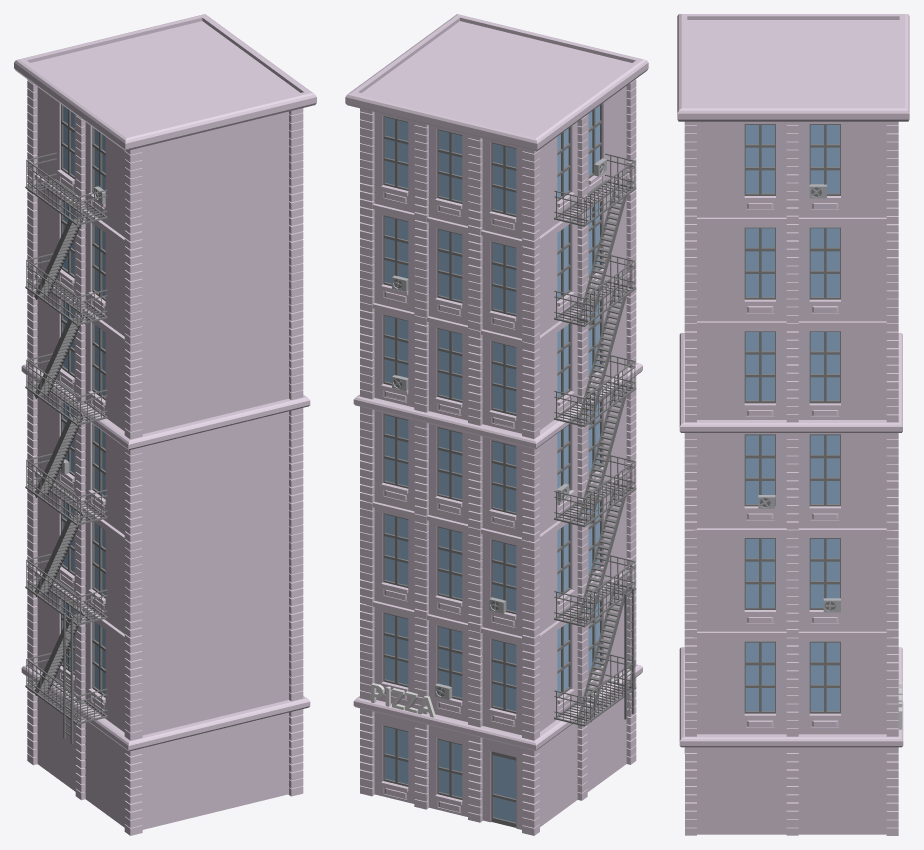
Rendered from cityscene2_19.gltf.
3 renders of one model, left to right at view 1: azimuth 30°, elevation 25°; view 2: azimuth 150°, elevation 25°; view 3: azimuth 270°, elevation 25°, orthographic. The views are drawn at different scales.
Visible parts, largest first — view 1: cityscene2_19; view 2: cityscene2_19; view 3: cityscene2_19.
Boxes of the visible parts, x1,y1,x2,y2 form: cityscene2_19: (14, 14, 316, 835); cityscene2_19: (345, 14, 648, 835); cityscene2_19: (677, 14, 909, 835).
Size of the model in its own units: 4.98 by 15.78 by 4.53.
